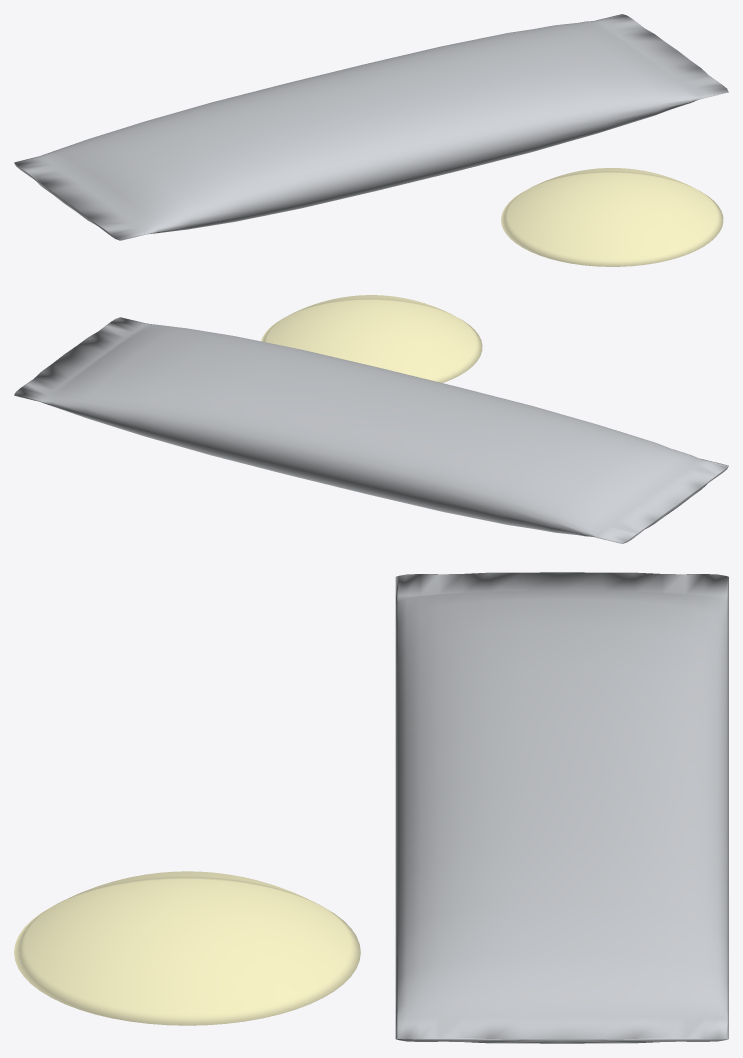
3 renders of one model, top to bottom at view 1: azimuth 30°, elevation 25°; view 2: azimuth 150°, elevation 25°; view 3: azimuth 270°, elevation 25°, orthographic. The views are drawn at different scales.
Visible parts, largest first — view 1: item, drop; view 2: item, drop; view 3: item, drop.
Part boxes in pixels (x1,y1,x2,y2): item: (14,14,728,240); drop: (501,168,723,266); item: (14,317,728,543); drop: (261,295,482,382); item: (395,572,728,1043); drop: (14,871,360,1025).
Bounding box in the file's own units: 0.1274 × 0.0134 × 0.0825.
